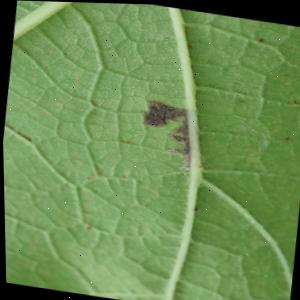Folha: (0, 0, 300, 300)
Fungo: (134, 96, 197, 170), (160, 110, 196, 170), (139, 97, 187, 129), (170, 112, 190, 132), (164, 130, 186, 141), (171, 122, 186, 133), (165, 144, 181, 152), (177, 161, 190, 170)
